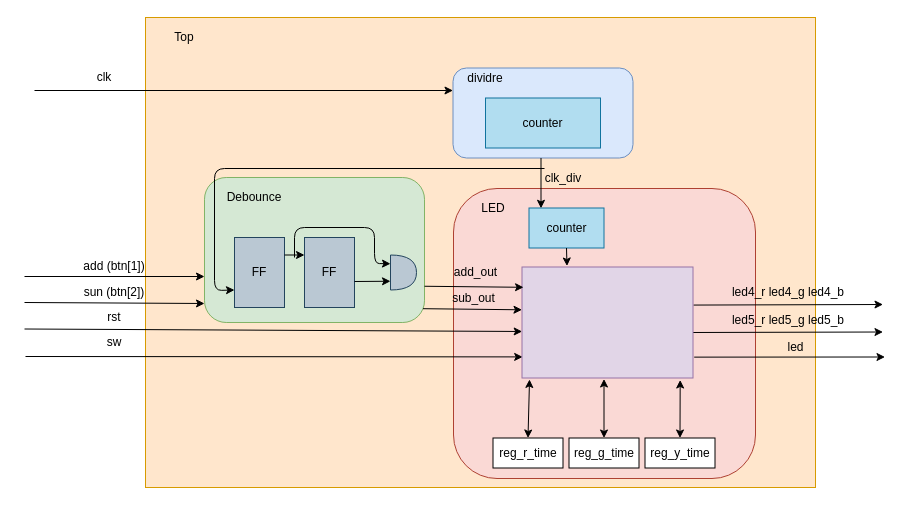
The diagram is 911 pixels wide and 505 high, and some of its shapes have lost their labels. The shapes that lost their labels are listed below. From the top down, each one's centre as x and y in pixels, then its label:
the point at 403,272: AND
the point at 607,322: controller
